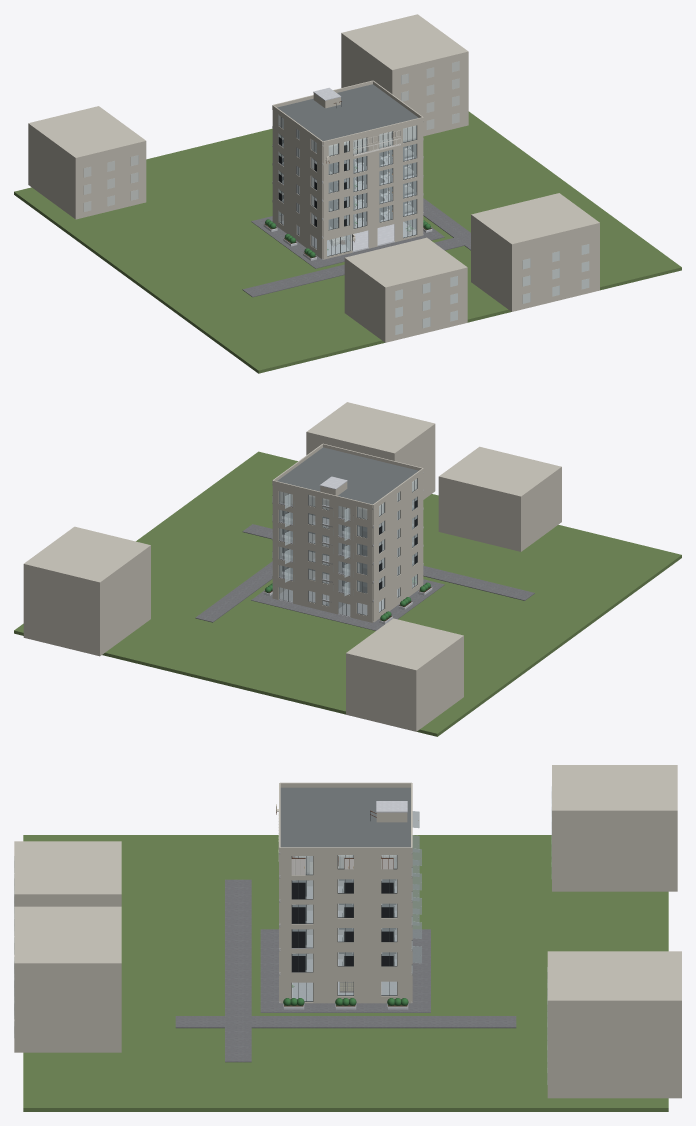
3 renders of one model, top to bottom at view 1: azimuth 30°, elevation 25°; view 2: azimuth 150°, elevation 25°; view 3: azimuth 270°, elevation 25°, orthographic. The views are drawn at different scales.
Visible parts, largest first — view 1: STATIC_SITE_草坪_Grass, BATCH_SITE_外墙暖白石材_Exterior, BATCH_SHELL_外墙暖白石材_Exterior, BATCH_SHELL_低反玻璃_WindowGlass, STATIC_ROOF_屋顶防水_Roof, BATCH_SITE_室外石材铺装_StonePaving, BATCH_SITE_低反玻璃_WindowGlass, BATCH_SHELL_深灰金属_WindowMetal, BATCH_ROOF_外墙暖白石材_Exterior, BATCH_F01_浅灰大理石_LightMarble; view 2: STATIC_SITE_草坪_Grass, BATCH_SITE_外墙暖白石材_Exterior, BATCH_SHELL_外墙暖白石材_Exterior, BATCH_SHELL_低反玻璃_WindowGlass, BATCH_SITE_室外石材铺装_StonePaving, STATIC_ROOF_屋顶防水_Roof, BATCH_ROOF_外墙暖白石材_Exterior, BATCH_SHELL_深灰金属_WindowMetal; view 3: STATIC_SITE_草坪_Grass, BATCH_SITE_外墙暖白石材_Exterior, BATCH_SHELL_外墙暖白石材_Exterior, BATCH_SITE_室外石材铺装_StonePaving, STATIC_ROOF_屋顶防水_Roof, BATCH_SHELL_低反玻璃_WindowGlass, BATCH_ROOF_外墙暖白石材_Exterior, BATCH_SHELL_深灰金属_WindowMetal, BATCH_F01_浅灰大理石_LightMarble, BATCH_F02_GTA黑色烤漆_BlackLacquer, BATCH_F04_GTA黑色烤漆_BlackLacquer, BATCH_F05_GTA黑色烤漆_BlackLacquer (+2 smaller).
Boxes of the visible parts, left/top/right/bottom form: STATIC_SITE_草坪_Grass: left=14, top=111, right=681, bottom=373; BATCH_SITE_外墙暖白石材_Exterior: left=28, top=14, right=599, bottom=342; BATCH_SHELL_外墙暖白石材_Exterior: left=272, top=109, right=423, bottom=259; BATCH_SHELL_低反玻璃_WindowGlass: left=278, top=115, right=416, bottom=256; STATIC_ROOF_屋顶防水_Roof: left=277, top=84, right=418, bottom=141; BATCH_SITE_室外石材铺装_StonePaving: left=242, top=198, right=470, bottom=297; BATCH_SITE_低反玻璃_WindowGlass: left=83, top=61, right=589, bottom=334; BATCH_SHELL_深灰金属_WindowMetal: left=278, top=115, right=416, bottom=256; BATCH_ROOF_外墙暖白石材_Exterior: left=272, top=80, right=423, bottom=145; BATCH_F01_浅灰大理石_LightMarble: left=280, top=221, right=415, bottom=255; STATIC_SITE_草坪_Grass: left=14, top=451, right=681, bottom=736; BATCH_SITE_外墙暖白石材_Exterior: left=23, top=402, right=561, bottom=731; BATCH_SHELL_外墙暖白石材_Exterior: left=272, top=472, right=423, bottom=622; BATCH_SHELL_低反玻璃_WindowGlass: left=272, top=478, right=417, bottom=615; BATCH_SITE_室外石材铺装_StonePaving: left=195, top=524, right=534, bottom=630; STATIC_ROOF_屋顶防水_Roof: left=277, top=447, right=418, bottom=504; BATCH_ROOF_外墙暖白石材_Exterior: left=272, top=443, right=423, bottom=508; BATCH_SHELL_深灰金属_WindowMetal: left=279, top=478, right=417, bottom=615; STATIC_SITE_草坪_Grass: left=23, top=835, right=668, bottom=1111; BATCH_SITE_外墙暖白石材_Exterior: left=14, top=765, right=681, bottom=1098; BATCH_SHELL_外墙暖白石材_Exterior: left=279, top=852, right=412, bottom=1003; BATCH_SITE_室外石材铺装_StonePaving: left=175, top=879, right=516, bottom=1062; STATIC_ROOF_屋顶防水_Roof: left=280, top=787, right=410, bottom=847; BATCH_SHELL_低反玻璃_WindowGlass: left=292, top=855, right=412, bottom=1001; BATCH_ROOF_外墙暖白石材_Exterior: left=279, top=782, right=412, bottom=852; BATCH_SHELL_深灰金属_WindowMetal: left=291, top=855, right=412, bottom=1001; BATCH_F01_浅灰大理石_LightMarble: left=279, top=981, right=396, bottom=1003; BATCH_F02_GTA黑色烤漆_BlackLacquer: left=292, top=954, right=393, bottom=972; BATCH_F04_GTA黑色烤漆_BlackLacquer: left=292, top=905, right=393, bottom=923; BATCH_F05_GTA黑色烤漆_BlackLacquer: left=292, top=880, right=393, bottom=899.
Size of the model in its own units: 72 by 20.57 by 74.53.
54 materials, 20 textured.
